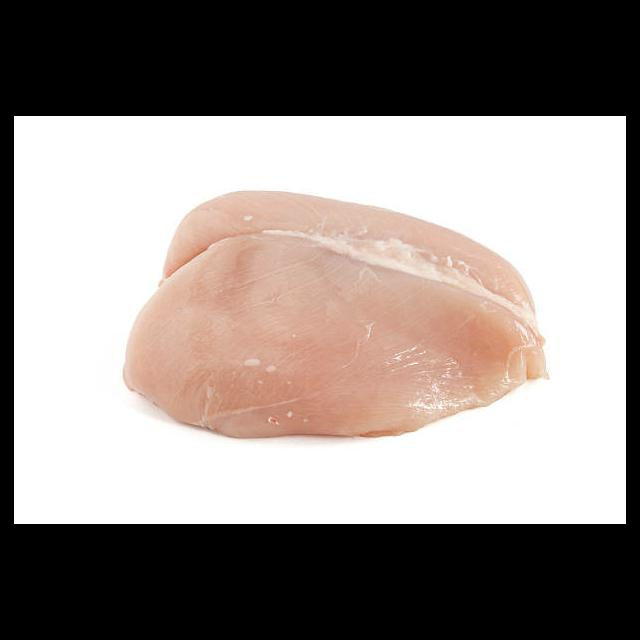chicken: (122, 189, 552, 441)
